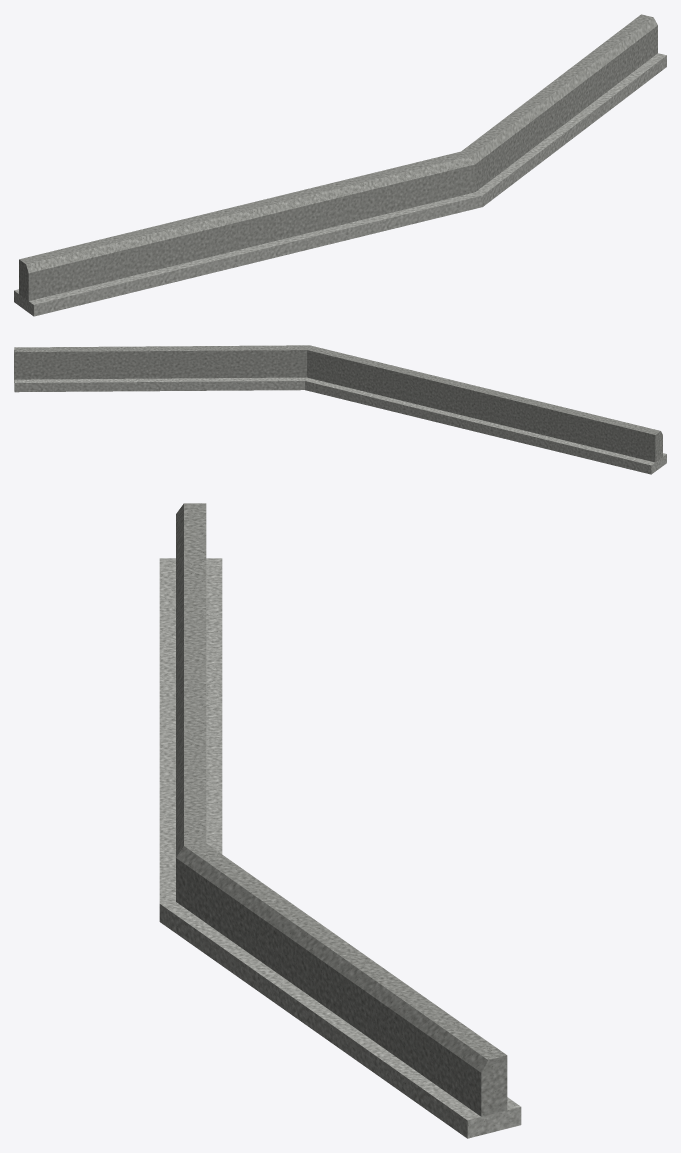
3 renders of one model, top to bottom at view 1: azimuth 30°, elevation 25°; view 2: azimuth 150°, elevation 25°; view 3: azimuth 270°, elevation 25°, orthographic. The views are drawn at different scales.
Parts seen in each view (by area): view 1: edge.kerb (×2); view 2: edge.kerb (×2); view 3: edge.kerb (×2).
Part boxes in pixels (x1,y1,x2,y2): edge.kerb (×2): (14,14,666,316); edge.kerb (×2): (14,345,666,474); edge.kerb (×2): (159,503,521,1138).
Size of the model in its own units: 6.58 by 1.79 by 0.4.
2 materials, 2 textured.
